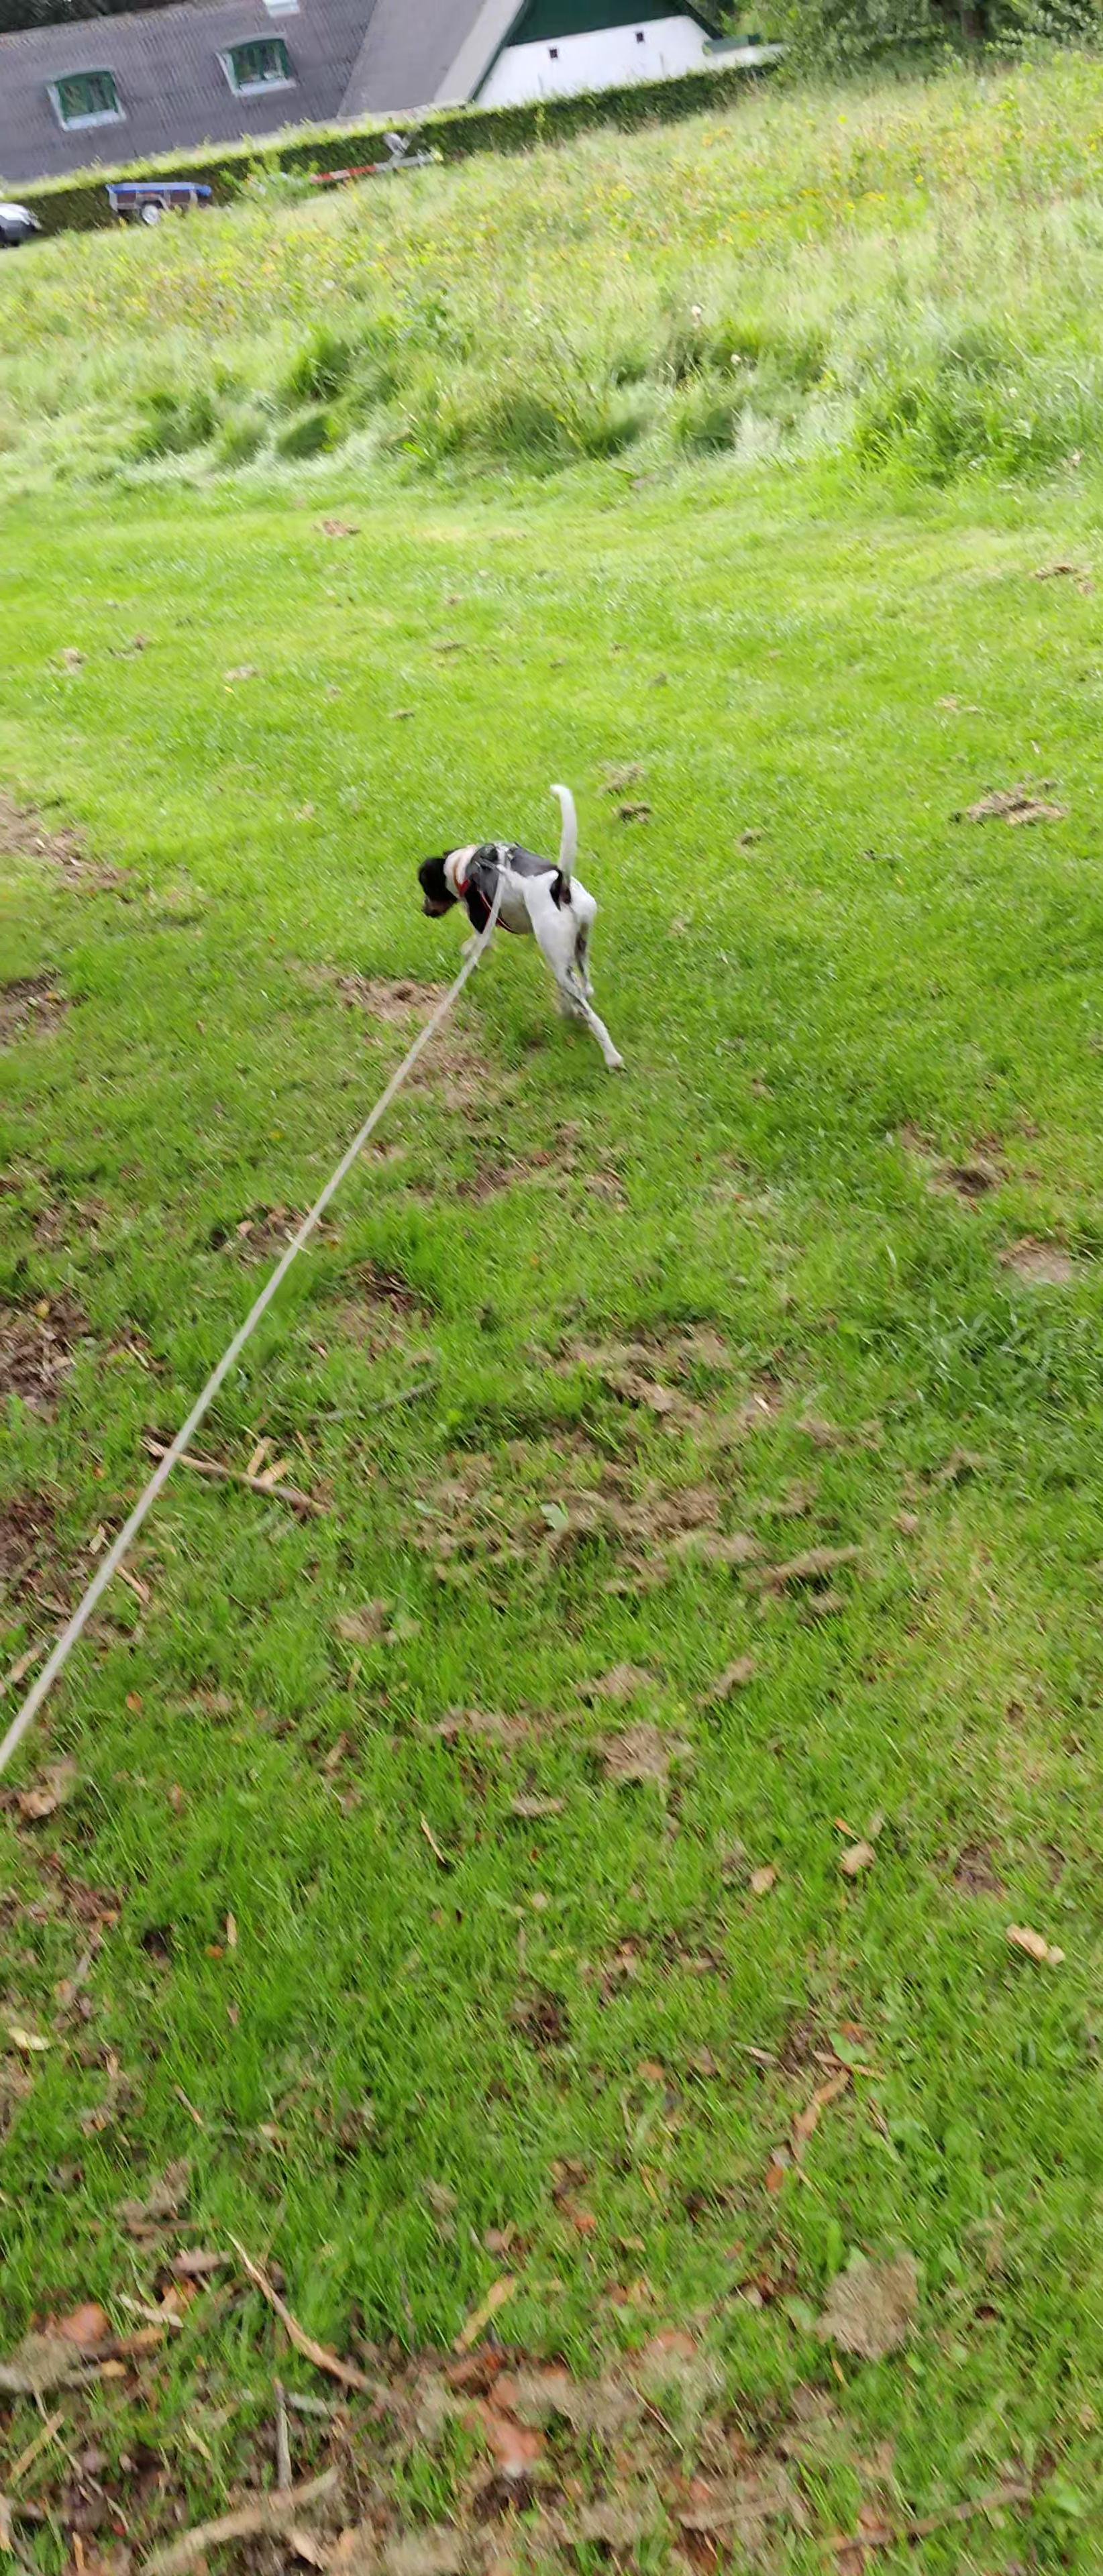Dog: (401, 766, 658, 1088)
